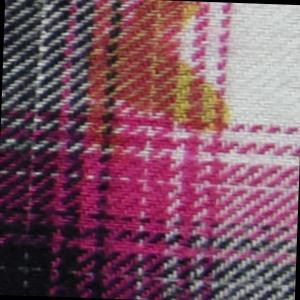Stain: (73, 1, 243, 164)
